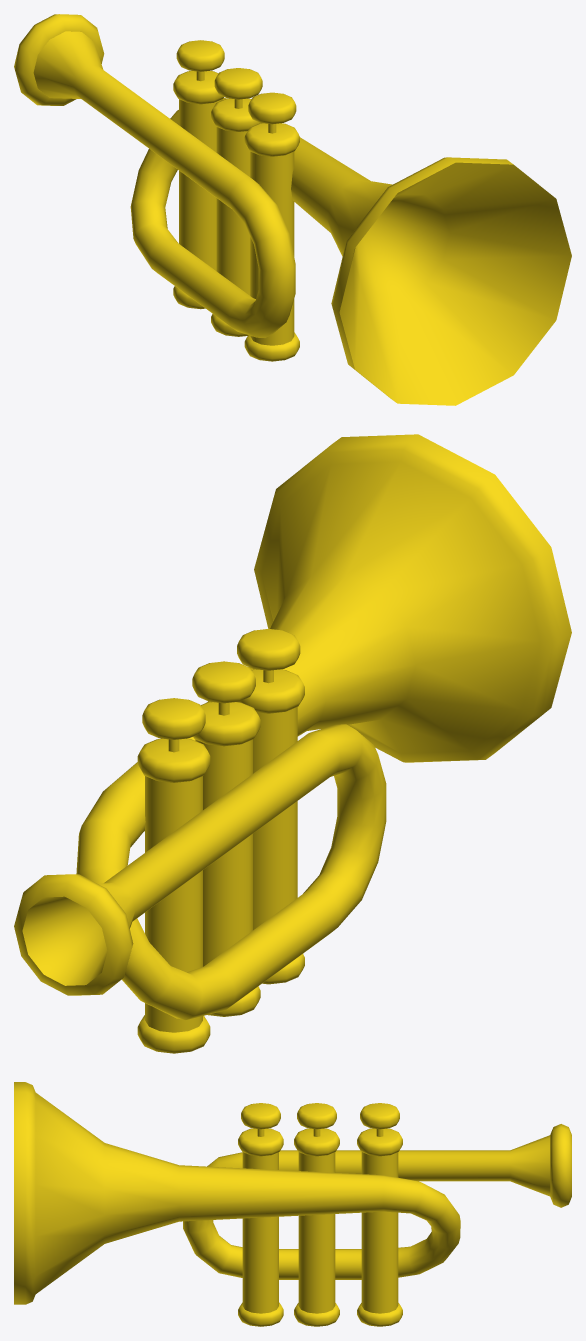
Rendered from Trompeta_0.fbx.
The picture shows the model from 3 angles, top to bottom: view 1: azimuth 30°, elevation 25°; view 2: azimuth 150°, elevation 25°; view 3: azimuth 270°, elevation 25°; orthographic projection. The views are drawn at different scales.
Parts seen in each view (by area): view 1: Trompeta_0; view 2: Trompeta_0; view 3: Trompeta_0.
Boxes of the visible parts, x1,y1,x2,y2 form: Trompeta_0: (14, 14, 571, 405); Trompeta_0: (14, 434, 571, 1053); Trompeta_0: (14, 1082, 571, 1326).
Size of the model in its own units: 17.55 by 20.89 by 43.84.
